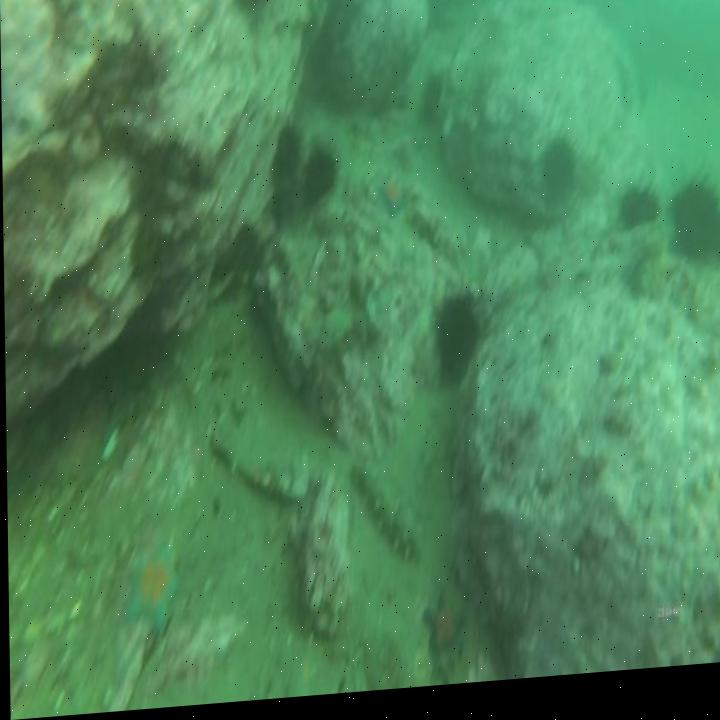echinus: (428, 287, 486, 400), (669, 174, 720, 279), (535, 136, 579, 213), (615, 178, 662, 243), (302, 138, 343, 207), (272, 121, 304, 189)
holothurian: (353, 455, 421, 572)
starfish: (118, 543, 183, 643), (420, 593, 468, 670), (374, 168, 411, 232)
